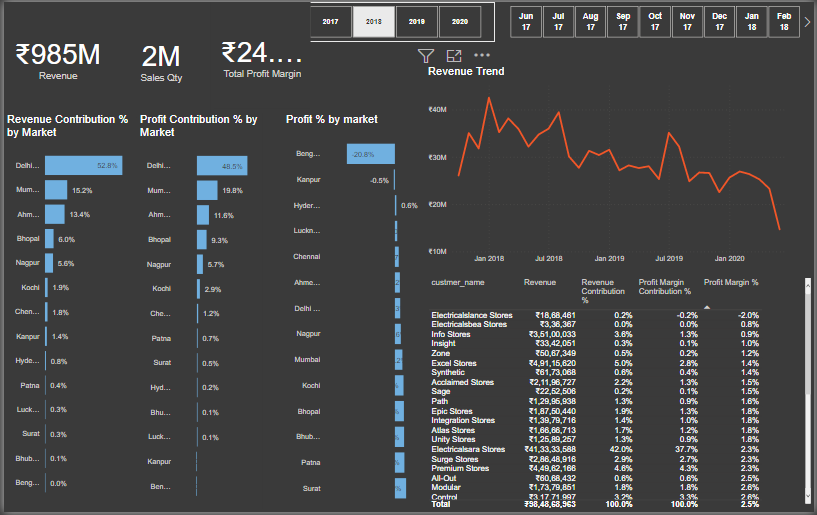

Layout of this report page (visuals, bound fields, positions):
{"tool":"powerbi","page":{"name":"Profit Analysis","canvas":[1350,850],"ordinal":1},"visuals":[{"type":"card","fields":{"Values":["BaseMeasures (2).Revenue"]},"box":[0,0,179.6,184.8],"z":0},{"type":"card","fields":{"Values":["BaseMeasures (2).Sales Qty"]},"box":[179.6,0,164.1,193],"z":1000},{"type":"barChart","title":"Profit % by market","fields":{"Y":["BaseMeasures (2).Profit Margin %"],"Category":["sales markets.markets_name"]},"box":[464.5,184.8,230.2,664.8],"z":2000},{"type":"barChart","title":"Profit Contribution % by Market","fields":{"Y":["BaseMeasures (2).Profit Margin Contribution %"],"Category":["sales markets.markets_name"]},"box":[221.9,185.8,208.5,659.6],"z":3000},{"type":"slicer","fields":{"Values":["sales date.year"]},"box":[483.2,0,335.5,66.5],"z":4000},{"type":"slicer","fields":{"Values":["sales date.cy_date"]},"box":[818.6,0,531.7,66.5],"z":5000},{"type":"tableEx","title":"Top 5 Customers","fields":{"Values":["sales customers.custmer_name","BaseMeasures (2).Revenue","BaseMeasures (2).Revenue Contribution %","BaseMeasures (2).Profit Margin Contribution %","BaseMeasures (2).Profit Margin %"]},"box":[701.9,454.2,648.3,395.4],"z":6000},{"type":"lineChart","title":"Revenue Trend","fields":{"Y":["BaseMeasures (2).Revenue"],"Category":["sales date.cy_date"]},"box":[701.9,104.3,621.4,338.6],"z":7000},{"type":"card","fields":{"Values":["BaseMeasures (2).Total Profit Margin"]},"box":[349.9,0,161,176.5],"z":8000},{"type":"barChart","title":"Revenue Contribution % by Market","fields":{"Y":["BaseMeasures (2).Revenue Contribution %"],"Category":["sales markets.markets_name"]},"box":[0,185.8,219.9,654.5],"z":9000}]}

Visuals, with their boxes in screenshot pixels (x1, y1, x2, y2), scaled from the page's 1350x850 canvas onto the 817x515 screenshot:
card - BaseMeasures (2).Revenue: left=0, top=0, right=109, bottom=112
card - BaseMeasures (2).Sales Qty: left=109, top=0, right=208, bottom=117
"Profit % by market" barChart: left=281, top=112, right=420, bottom=514
"Profit Contribution % by Market" barChart: left=134, top=113, right=260, bottom=512
slicer - sales date.year: left=292, top=0, right=495, bottom=40
slicer - sales date.cy_date: left=495, top=0, right=816, bottom=40
"Top 5 Customers" tableEx: left=425, top=275, right=816, bottom=514
"Revenue Trend" lineChart: left=425, top=63, right=801, bottom=268
card - BaseMeasures (2).Total Profit Margin: left=212, top=0, right=309, bottom=107
"Revenue Contribution % by Market" barChart: left=0, top=113, right=133, bottom=509
